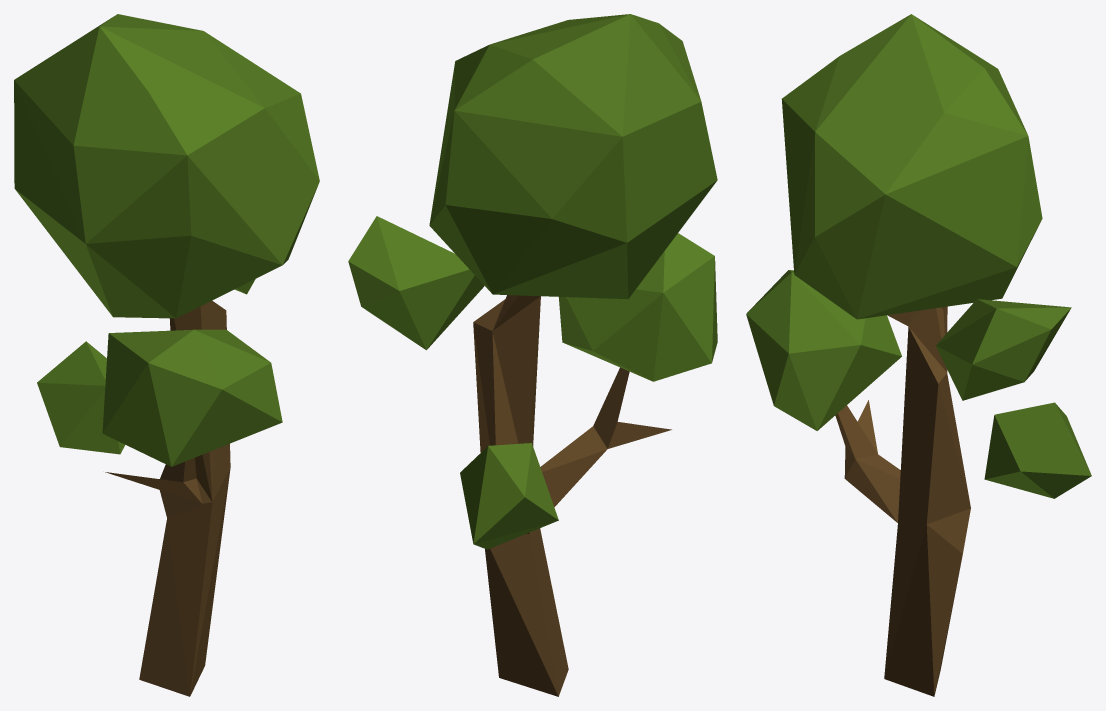
Rendered from temp-decid.moderate-op0.3.gltf.
3 views of the same model, side by side, from view 1: azimuth 30°, elevation 25°; view 2: azimuth 150°, elevation 25°; view 3: azimuth 270°, elevation 25° (orthographic). The views are drawn at different scales.
Visible parts, largest first — view 1: Tree1_2; view 2: Tree1_2; view 3: Tree1_2.
Boxes of the visible parts, x1,y1,x2,y2 form: Tree1_2: [14, 14, 319, 696]; Tree1_2: [348, 14, 717, 696]; Tree1_2: [746, 14, 1091, 696].
Bounding box in the file's own units: 2.55 × 6.01 × 2.99.
Materials: 1 (1 with a texture image).
